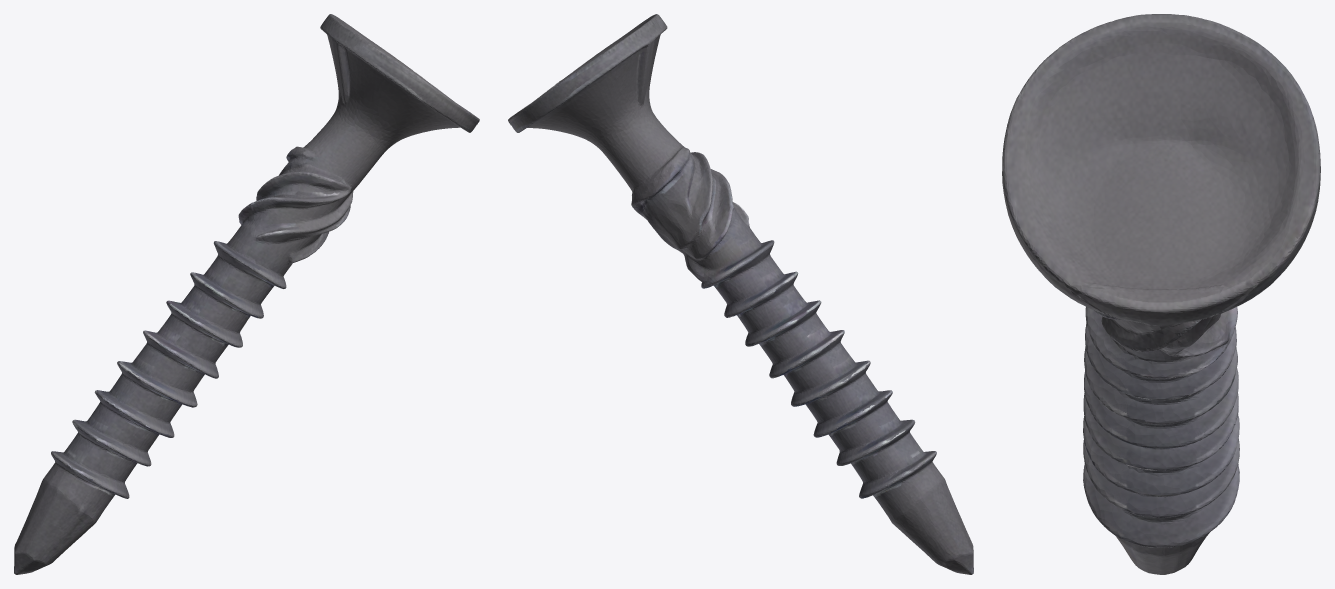
File: a840f49b-edc2-4437-a91c-0bb3aa49216a_result.glb
The picture shows the model from 3 angles, left to right: view 1: azimuth 30°, elevation 25°; view 2: azimuth 150°, elevation 25°; view 3: azimuth 270°, elevation 25°; orthographic projection. The views are drawn at different scales.
Visible parts, largest first — view 1: tmpdcdn23l_.ply; view 2: tmpdcdn23l_.ply; view 3: tmpdcdn23l_.ply.
Part boxes in pixels (x1,y1,x2,y2): tmpdcdn23l_.ply: (14, 14, 479, 574); tmpdcdn23l_.ply: (508, 14, 973, 574); tmpdcdn23l_.ply: (1002, 14, 1320, 574).
Bounding box in the file's own units: 1.96 × 1.96 × 0.6818.
Materials: 1 (1 with a texture image).
